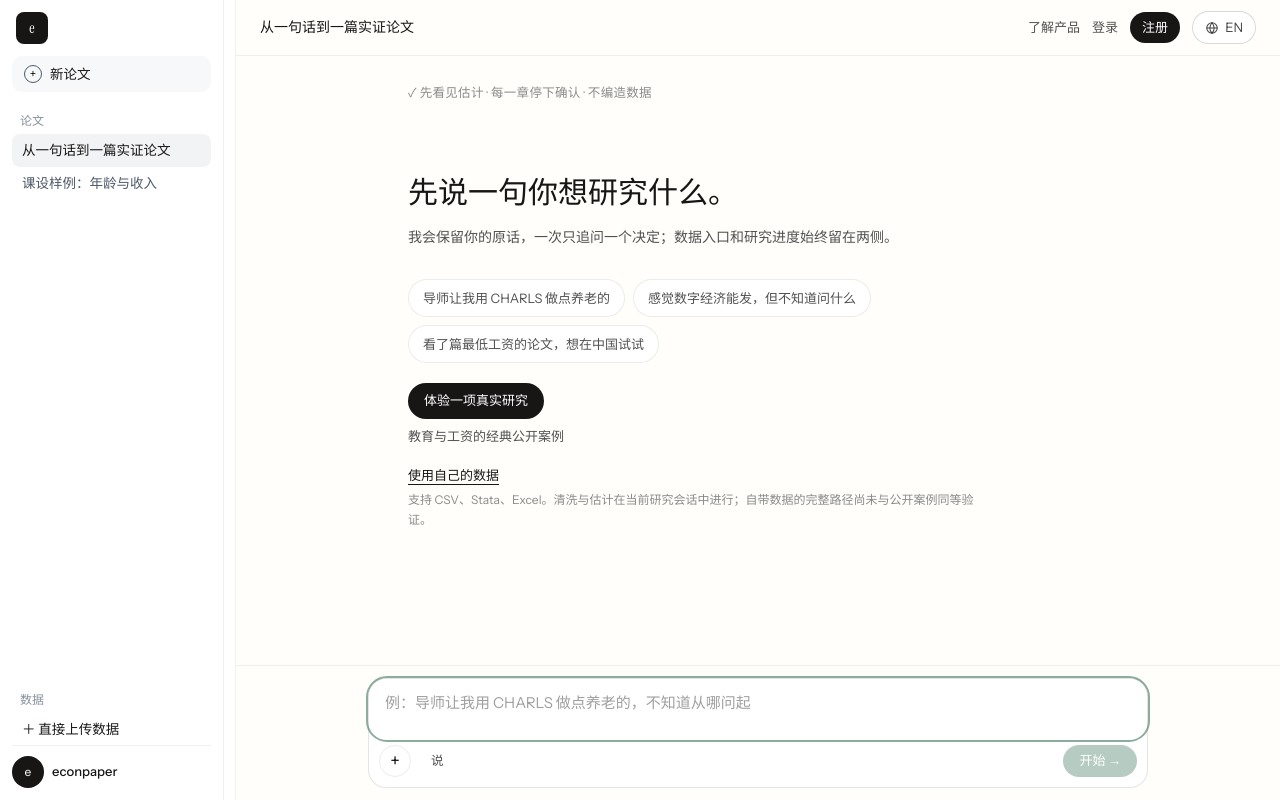
Test: App 三栏布局 › C4 空桌页眉「了解产品」进入 GuidePage，CTA 再回到空桌
Step 1. Click the button with test id "desk-open-guide" → {"x": 1054, "y": 28}, box [1028,18,1080,37]
(page scrolled)
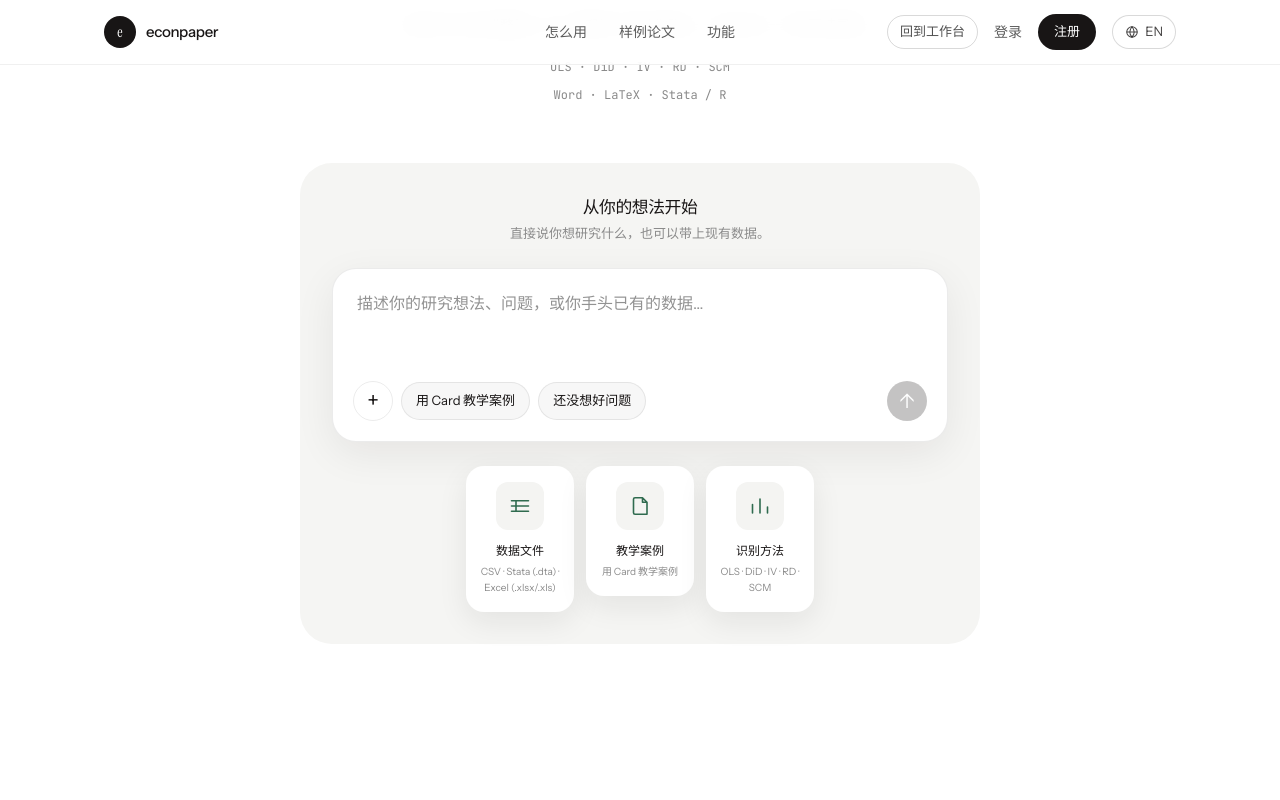
Step 2. Click the button with test id "guide-write-paper" → {"x": 592, "y": 401}, box [538,382,646,420]
(page scrolled)
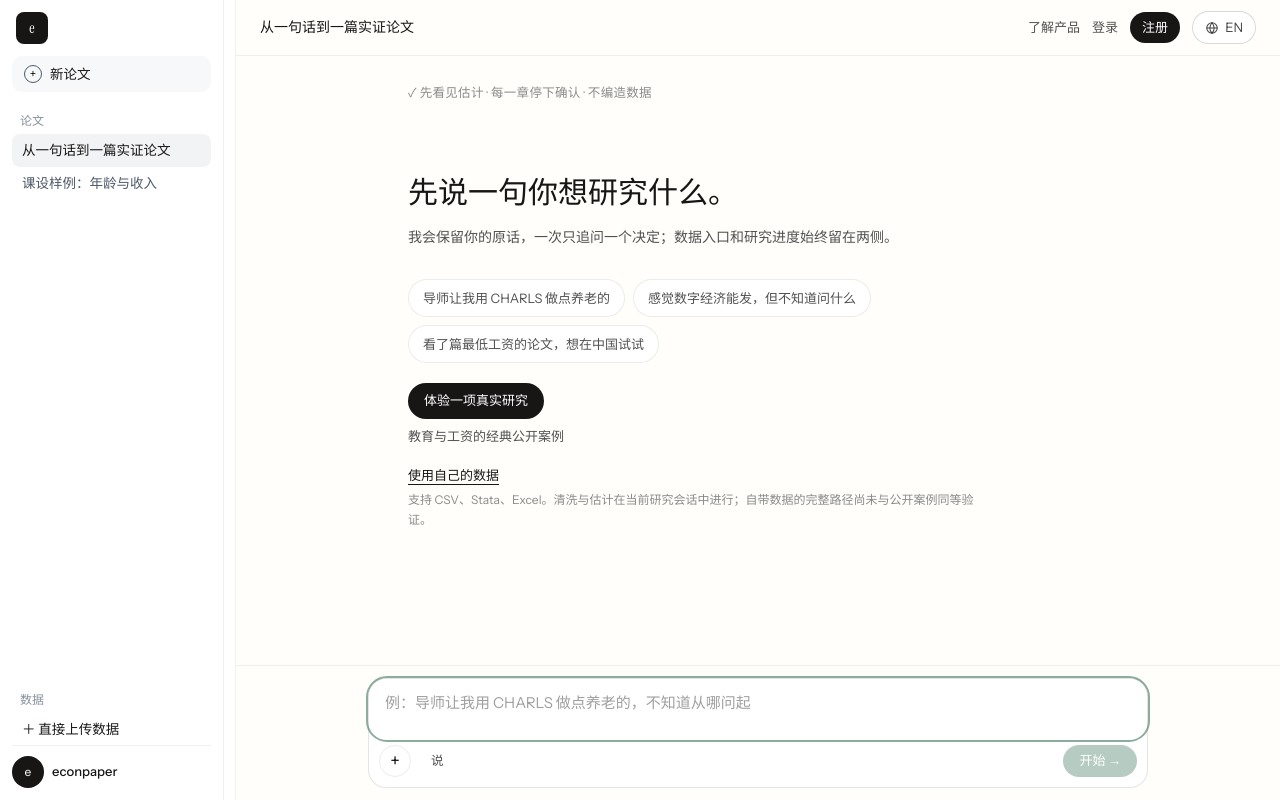
Expected: the element with test id "desk-page" is shown
